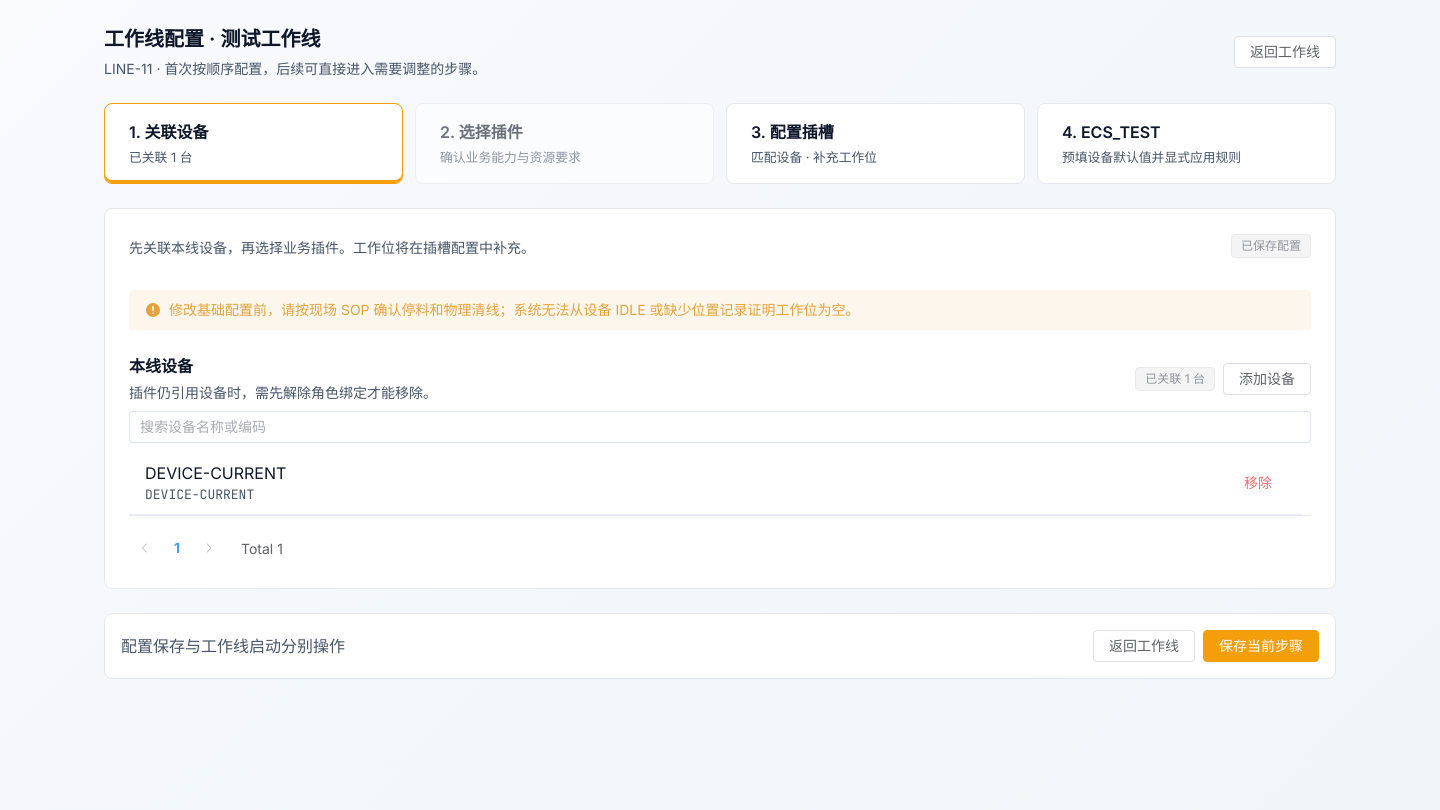
Test: WorkLine independent base configuration › retains work-position maintenance for users with base permissions only
Step 1. Click the tab "3. 配置插槽 匹配设备 · 补充工作位" → (792, 132), box x1=726 y1=103 x2=1025 y2=184
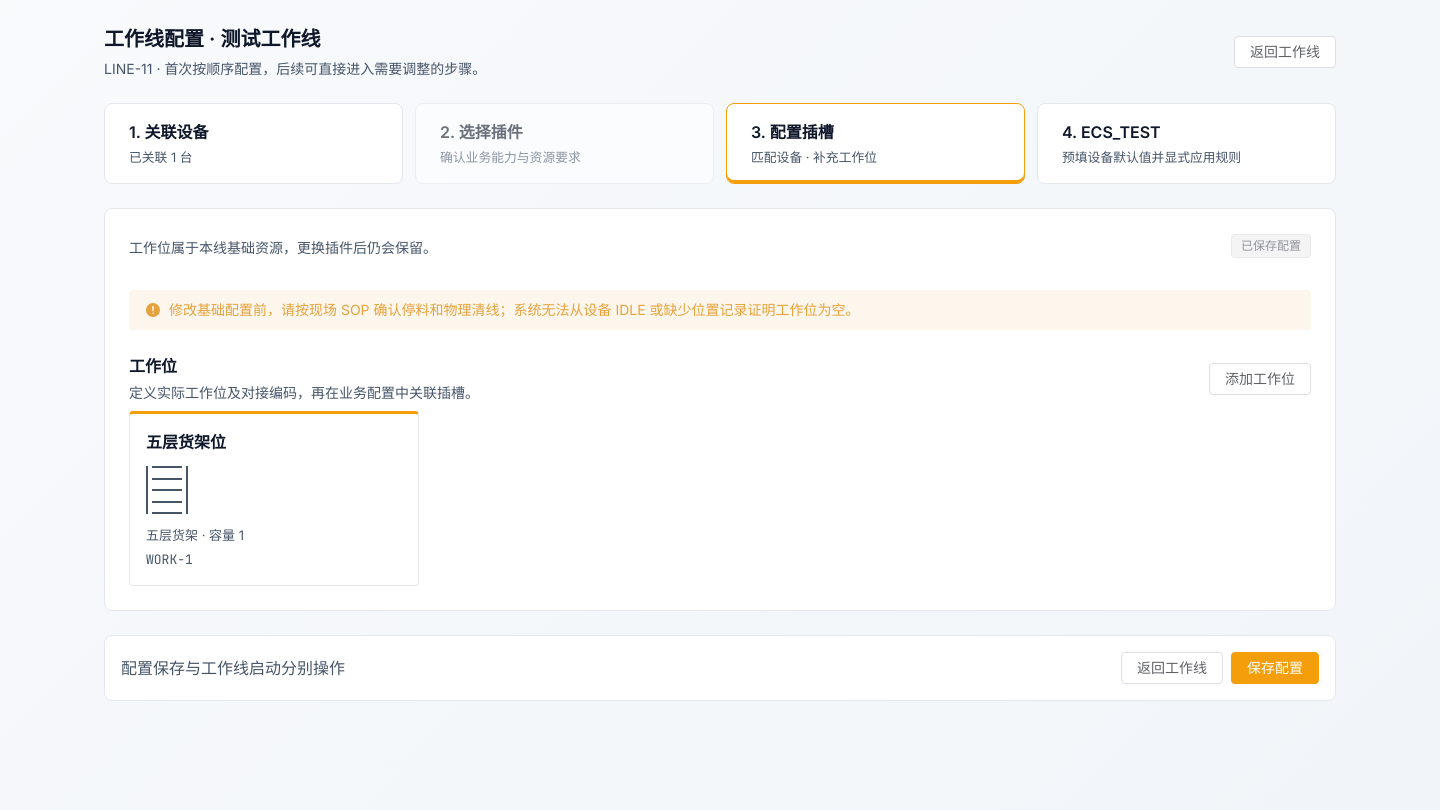
Check: the text "添加工作位" is shown, box x1=1225 y1=372 x2=1295 y2=386
Check: the text "五层货架位" is shown, box x1=146 y1=432 x2=226 y2=452
